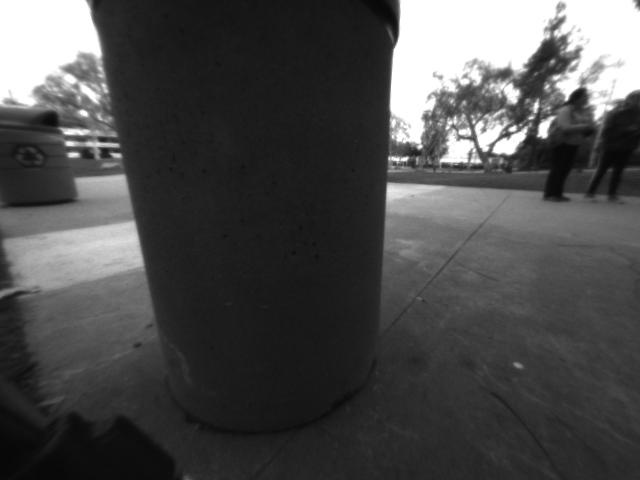trashcan: (1, 106, 84, 208)
